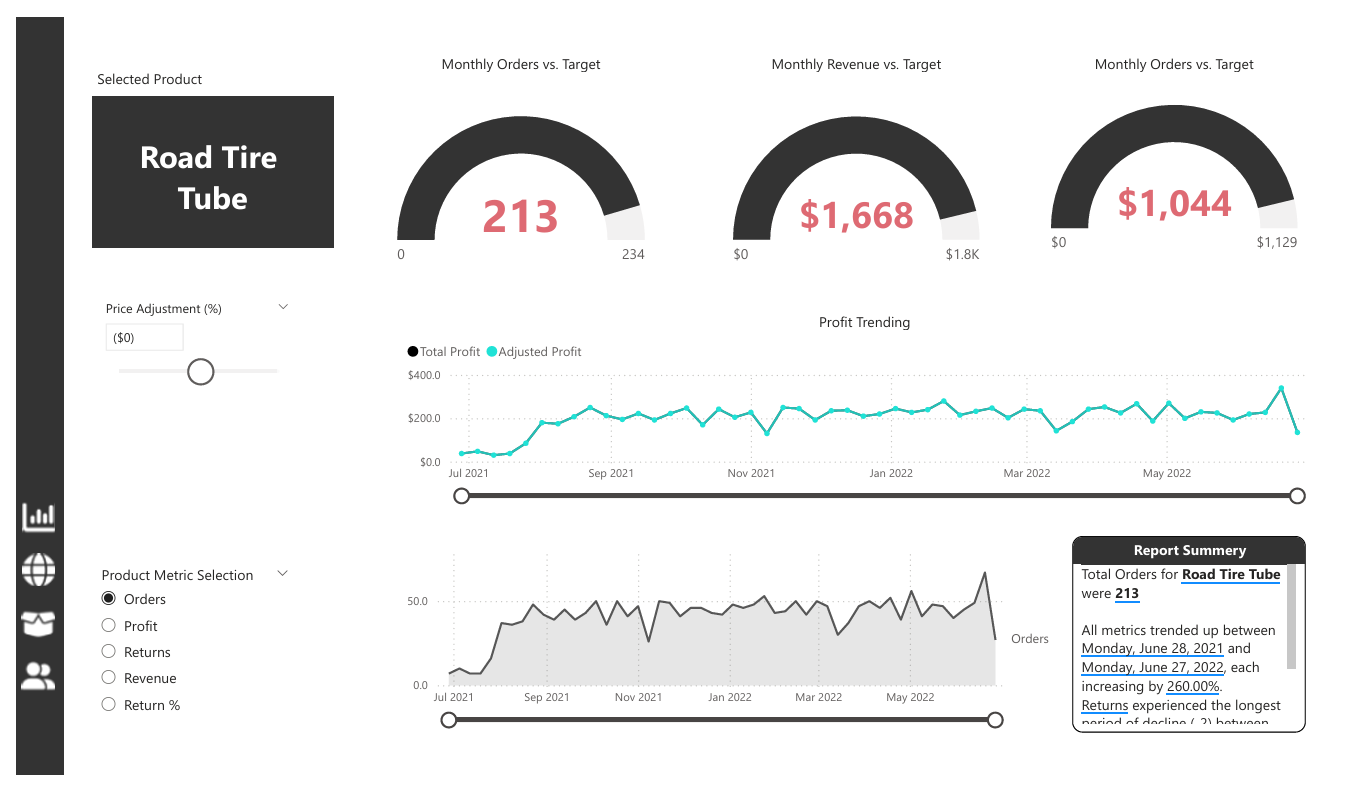

What the dashboard file says about the page in this screenshot:
{"tool":"powerbi","page":{"name":"Product Details","canvas":[1280,720],"ordinal":2},"visuals":[{"type":"shape","box":[0,0,45,720],"z":0},{"type":"actionButton","box":[2.4,456.1,45.2,39.1],"z":0,"group":"g1"},{"type":"gauge","title":"Monthly Orders vs. Target","fields":{"Y":["Measure Table.Total Orders"],"MaxValue":["Measure Table.Order Target"]},"box":[357.1,35.5,244.6,244.6],"z":1000},{"type":"actionButton","box":[1.2,606.5,45.2,39.1],"z":1000,"group":"g1"},{"type":"gauge","title":"Monthly Revenue vs. Target","fields":{"Y":["Measure Table.Total Revenue"],"MaxValue":["Measure Table.Revenue Target"]},"box":[676.2,35.5,243.3,244.6],"z":2000},{"type":"actionButton","box":[1.2,557.6,45.2,39.1],"z":2000,"group":"g1"},{"type":"gauge","title":"Monthly Orders vs. Target","fields":{"Y":["Measure Table.Total Profit"],"MaxValue":["Measure Table.Profit Target"]},"box":[978.3,35.5,243.3,222.6],"z":3000},{"type":"actionButton","box":[2.4,506.2,45.2,39.1],"z":3000,"group":"g1"},{"type":"lineChart","title":"Profit Trending","fields":{"Category":["Calendar Lookup.Date Hierarchy.Start of Year","Calendar Lookup.Date Hierarchy.Start of Month","Calendar Lookup.Date Hierarchy.Start of Week","Calendar Lookup.Date Hierarchy.Date"],"Y":["Measure Table.Total Profit","Measure Table.Adjusted Profit"]},"box":[365.6,280,880.4,185.9],"z":4000},{"type":"areaChart","title":"Return Trending","fields":{"Y":["Measure Table.Total Orders"],"Category":["Calendar Lookup.Date Hierarchy.Start of Year","Calendar Lookup.Date Hierarchy.Start of Month","Calendar Lookup.Date Hierarchy.Start of Week","Calendar Lookup.Date Hierarchy.Date"]},"box":[365.6,492.8,637.1,185.9],"z":5000},{"type":"card","fields":{"Values":["Min(Product Lookup.ProductName)"]},"box":[72.1,74.6,228.7,144.3],"z":6000},{"type":"textbox","box":[72.1,44,119.8,30.6],"z":7000},{"type":"group","id":"g1","title":"Navigation Buttons","box":[1.2,456.1,46.5,189.5],"z":8000},{"type":"slicer","fields":{"Values":["Price Adjustment (%).Price Adjustment (%)"]},"box":[72.1,262.9,199.3,124.7],"z":9000},{"type":"slicer","fields":{"Values":["Product Metric Selection.Product Metric Selection"]},"box":[68.5,516,203,160.2],"z":10000},{"type":"textbox","title":"Report Summery","box":[1002.7,492.8,222.6,187.1],"z":11000}]}

Visuals, with their boxes on the page's 1280x720 design canvas (x1, y1, x2, y2). These are canvas units, not pixel positions in the 1366x786 screenshot, which may show the page scaled, cropped or inside an application window:
shape: box(0, 0, 45, 720)
actionButton: box(2, 456, 48, 495)
"Monthly Orders vs. Target" gauge: box(357, 36, 602, 280)
actionButton: box(1, 606, 46, 646)
"Monthly Revenue vs. Target" gauge: box(676, 36, 920, 280)
actionButton: box(1, 558, 46, 597)
"Monthly Orders vs. Target" gauge: box(978, 36, 1222, 258)
actionButton: box(2, 506, 48, 545)
"Profit Trending" lineChart: box(366, 280, 1246, 466)
"Return Trending" areaChart: box(366, 493, 1003, 679)
card - Min(Product Lookup.ProductName): box(72, 75, 301, 219)
textbox: box(72, 44, 192, 75)
"Navigation Buttons" group: box(1, 456, 48, 646)
slicer - Price Adjustment (%).Price Adjustment (%): box(72, 263, 271, 388)
slicer - Product Metric Selection.Product Metric Selection: box(68, 516, 272, 676)
"Report Summery" textbox: box(1003, 493, 1225, 680)
